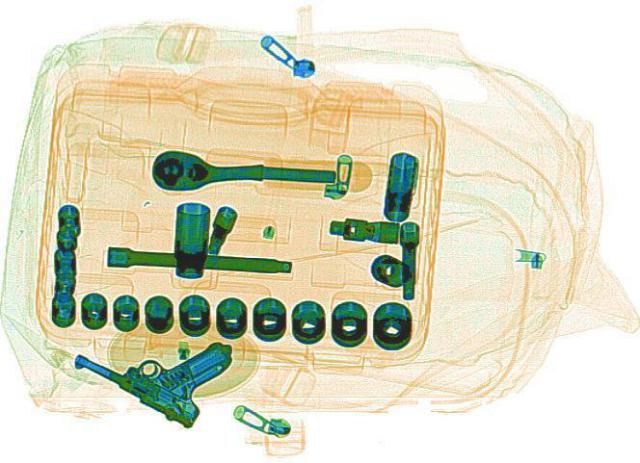Gun: (61, 299, 262, 427)
